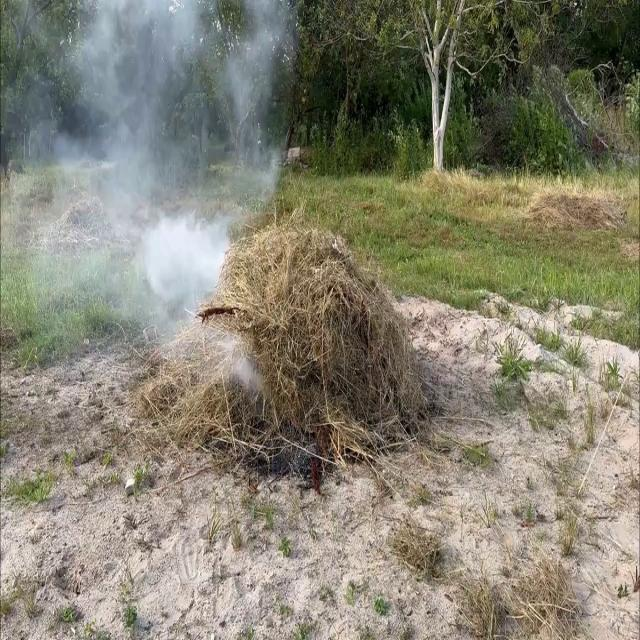Smoke: (10, 1, 294, 346)
